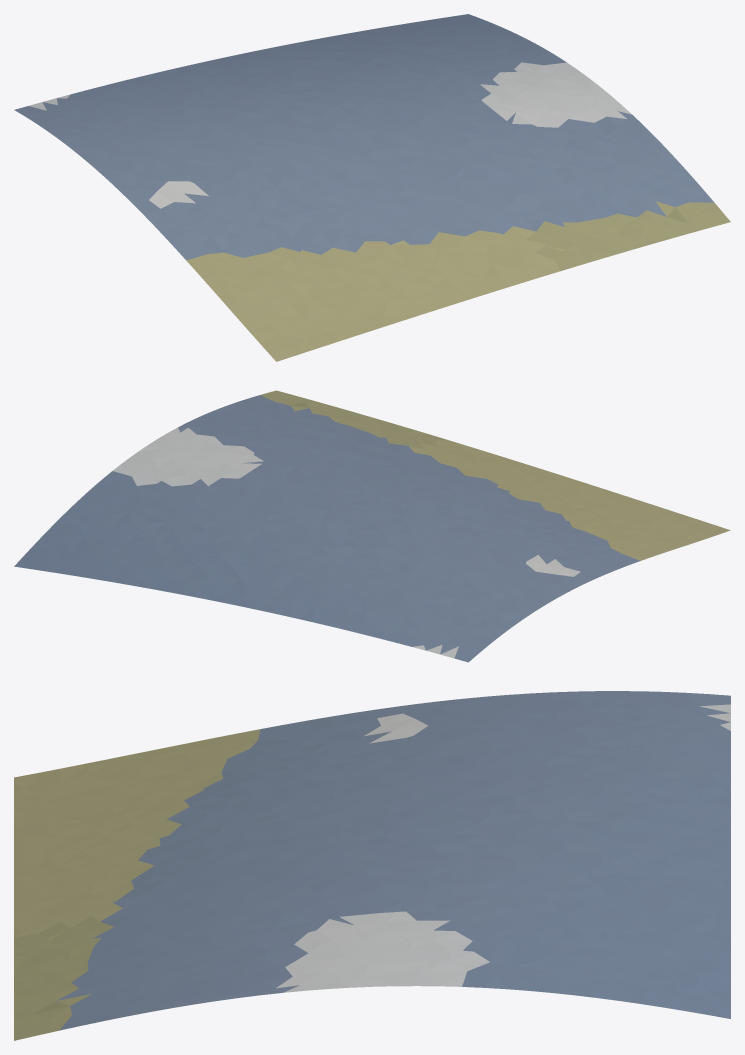
The model's file is Ground_-3_-10.glb.
The picture shows the model from 3 angles, top to bottom: view 1: azimuth 30°, elevation 25°; view 2: azimuth 150°, elevation 25°; view 3: azimuth 270°, elevation 25°; orthographic projection. The views are drawn at different scales.
Visible parts, largest first — view 1: Ground_-3_-10; view 2: Ground_-3_-10; view 3: Ground_-3_-10.
Boxes of the visible parts, x1,y1,x2,y2 form: Ground_-3_-10: (14,14,730,361); Ground_-3_-10: (14,390,730,662); Ground_-3_-10: (14,691,730,1040).
Bounding box in the file's own units: 768 × 118 × 768.
